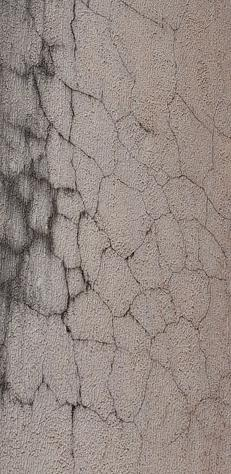fissura: (0, 0, 231, 438)
